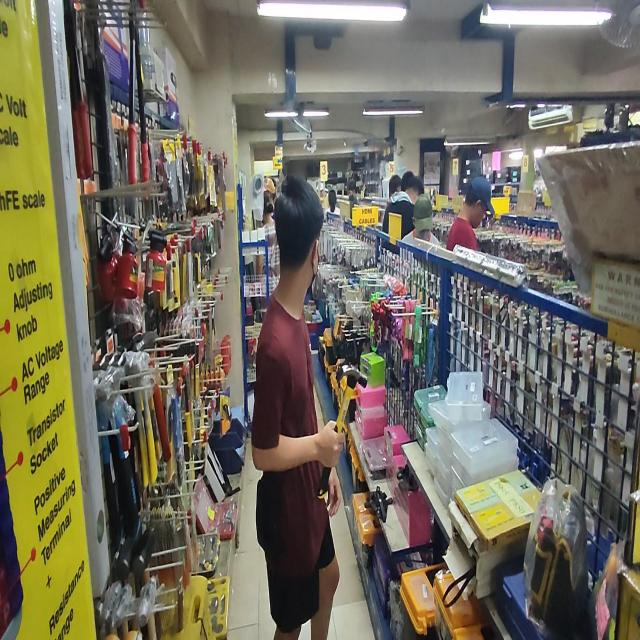hammer: (317, 364, 367, 499)
